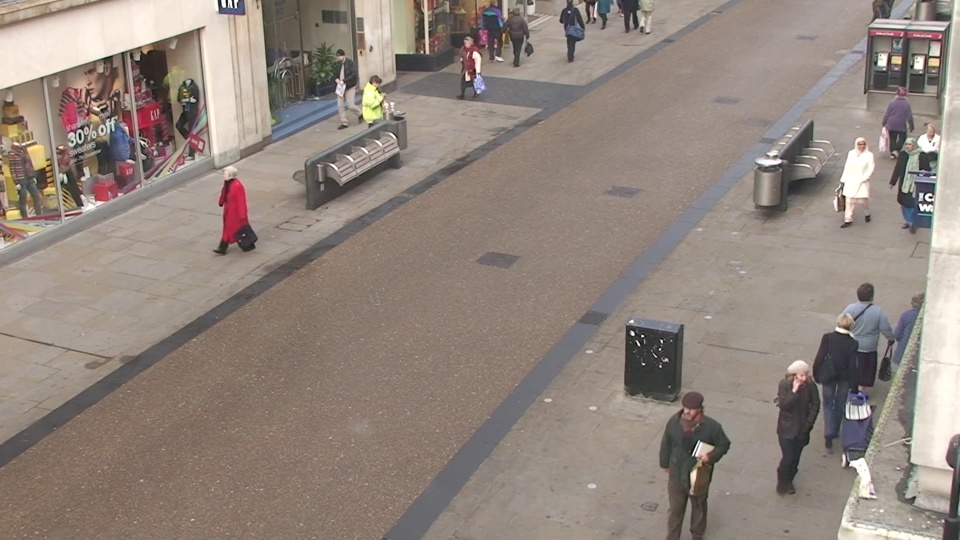pedestrian: (768, 353, 826, 512), (660, 386, 717, 540), (884, 284, 944, 427), (814, 305, 870, 451), (834, 277, 888, 416), (884, 134, 930, 238), (902, 121, 949, 222), (213, 161, 255, 267), (837, 134, 879, 236), (877, 82, 918, 173), (363, 72, 393, 155), (329, 47, 357, 122), (456, 35, 482, 107), (505, 5, 529, 70)
